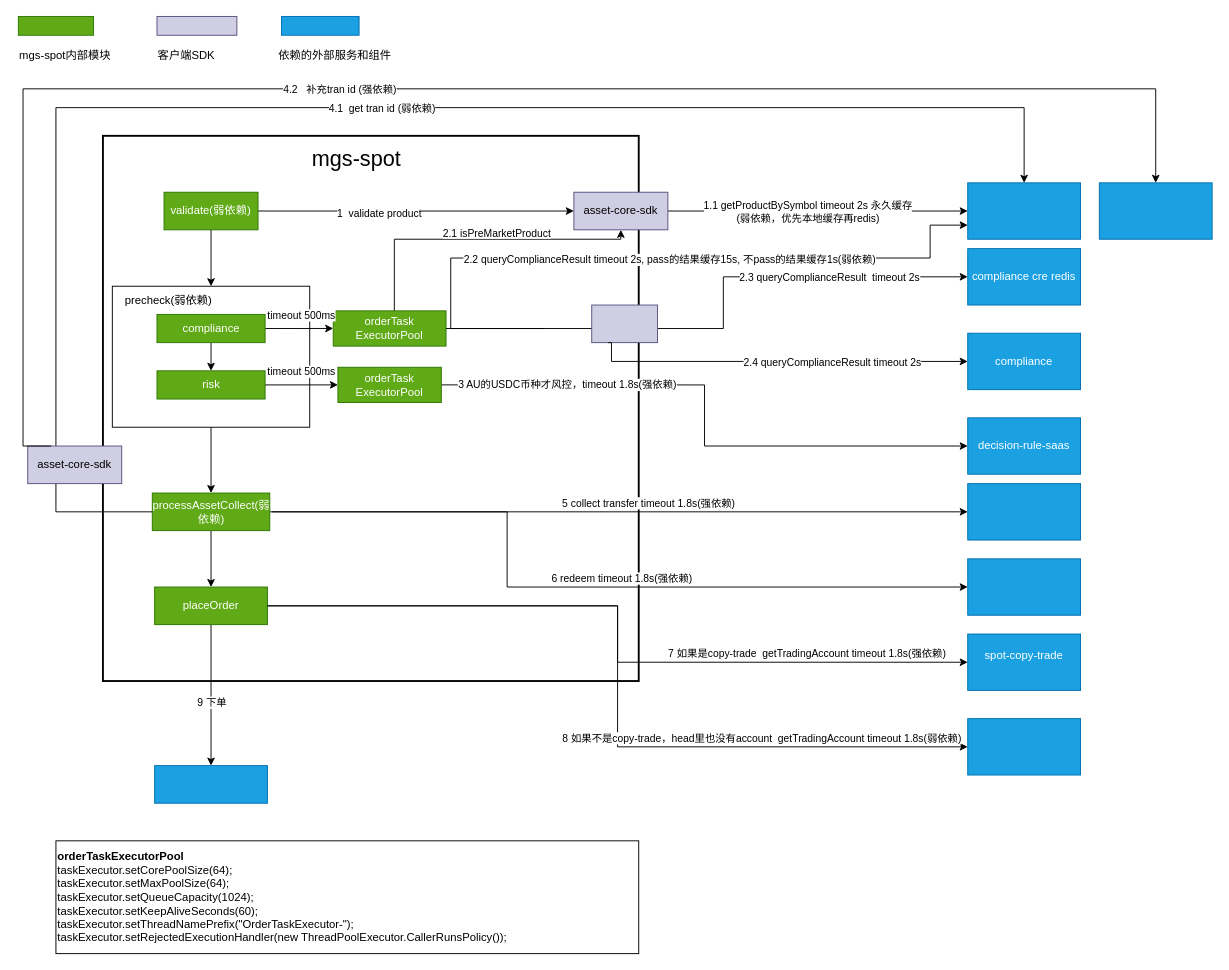
Some shapes in this 1229 by 970 pixel diagram are drawn without their labels. The box of each missing label's shape, as (x1, y1, x2, y2) in pixels:
account: (967, 718, 1081, 775)
compliance sdk: (591, 304, 658, 343)
lending-web: (967, 558, 1081, 615)
mbx: (154, 765, 267, 803)
mgs-spot redis: (967, 182, 1081, 239)
sequence: (1098, 182, 1212, 239)
transfer: (967, 483, 1081, 540)
